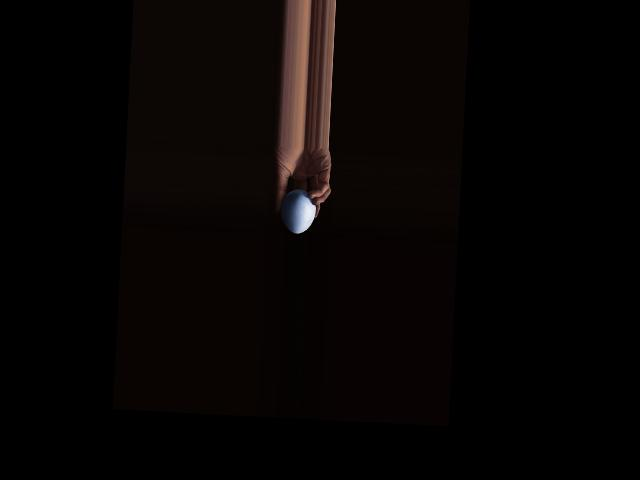egg: (280, 189, 317, 235)
